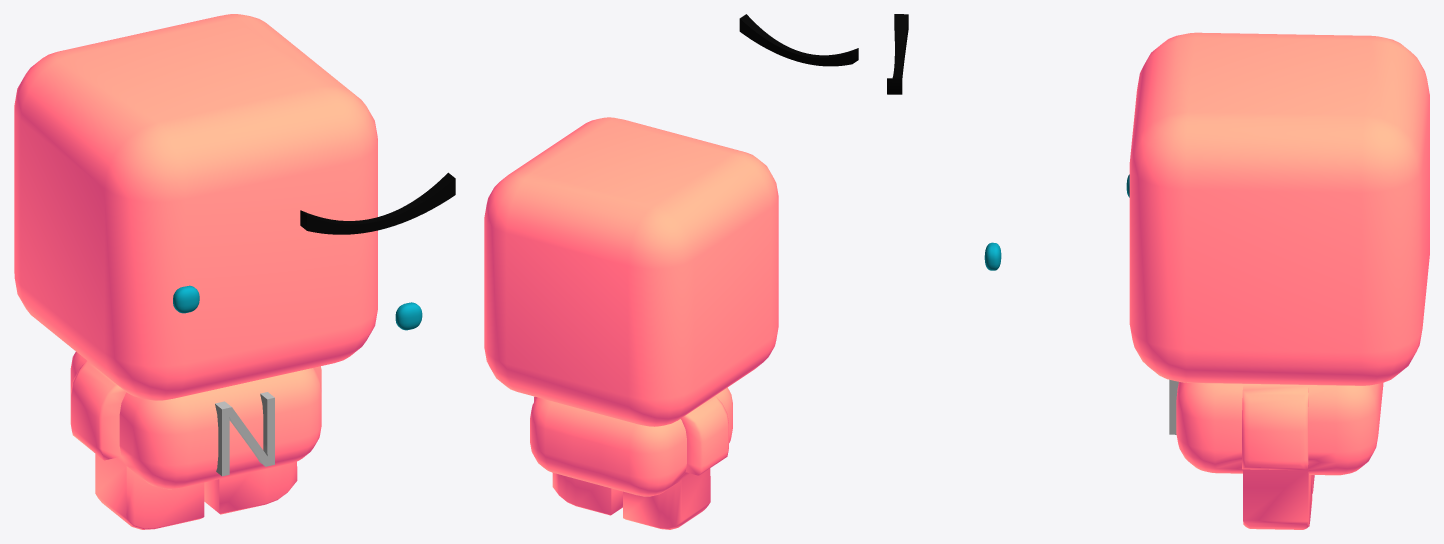
The model's file is theDude2.dae.
3 views of the same model, side by side, from view 1: azimuth 30°, elevation 25°; view 2: azimuth 150°, elevation 25°; view 3: azimuth 270°, elevation 25° (orthographic). The views are drawn at different scales.
Parts seen in each view (by area): view 1: Head-1, Body, mouth, Cap_1, N, Cube-1, Cube; view 2: Head-1, Body, mouth; view 3: Head-1, Body, mouth.
Part boxes in pixels (x1,y1,x2,y2): Head-1: (14, 14, 377, 400); Body: (70, 352, 321, 529); mouth: (300, 172, 455, 234); Cap_1: (222, 397, 274, 476); N: (215, 392, 274, 475); Cube-1: (395, 302, 422, 330); Cube: (173, 285, 199, 313); Head-1: (484, 117, 778, 426); Body: (530, 387, 732, 529); mouth: (739, 14, 858, 66); Head-1: (1129, 32, 1429, 385); Body: (1176, 382, 1383, 529); mouth: (887, 14, 908, 94).
Size of the model in its own units: 2048 by 3382 by 3703.
